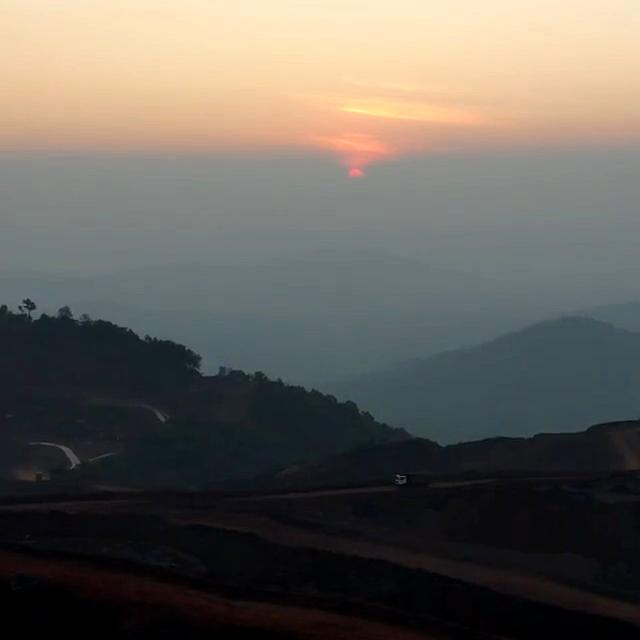Dumper truck: (389, 470, 438, 492)
